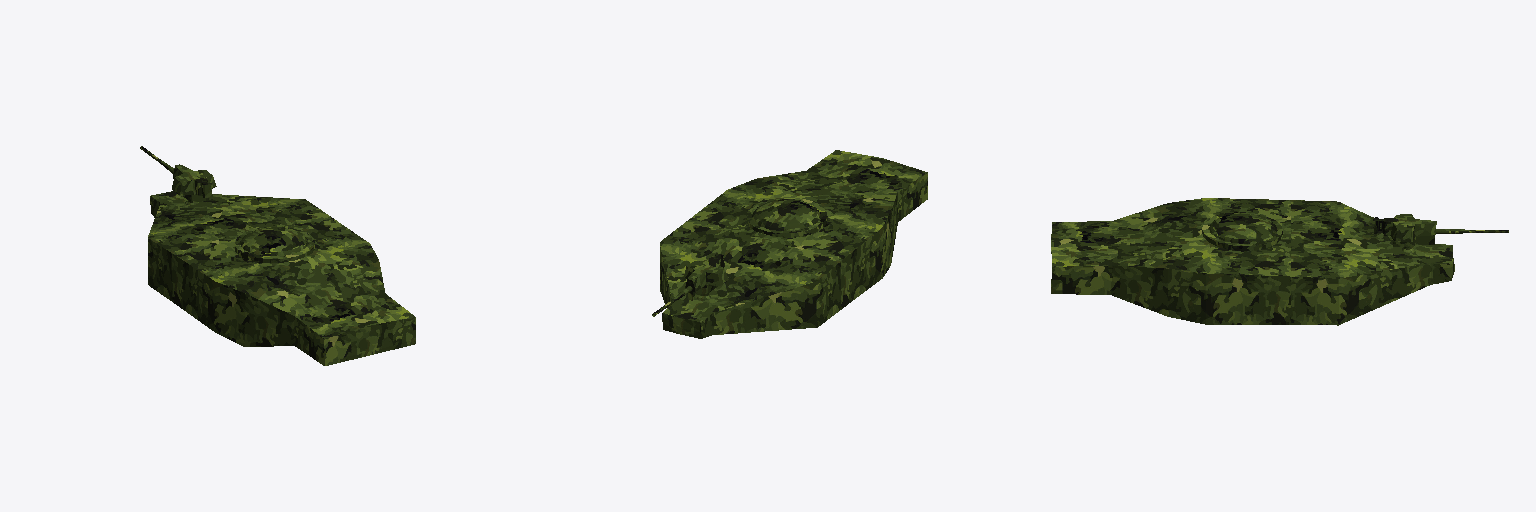
3 renders of one model, left to right at view 1: azimuth 30°, elevation 25°; view 2: azimuth 150°, elevation 25°; view 3: azimuth 270°, elevation 25°, orthographic.
Bounding box in the file's own units: 1.32 × 0.5853 × 3.3.
Materials: 1 (1 with a texture image).